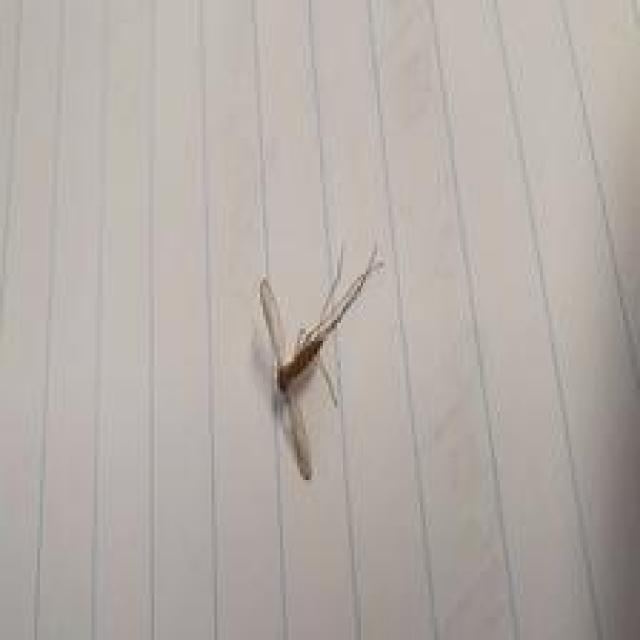Culex: (257, 242, 386, 482)
